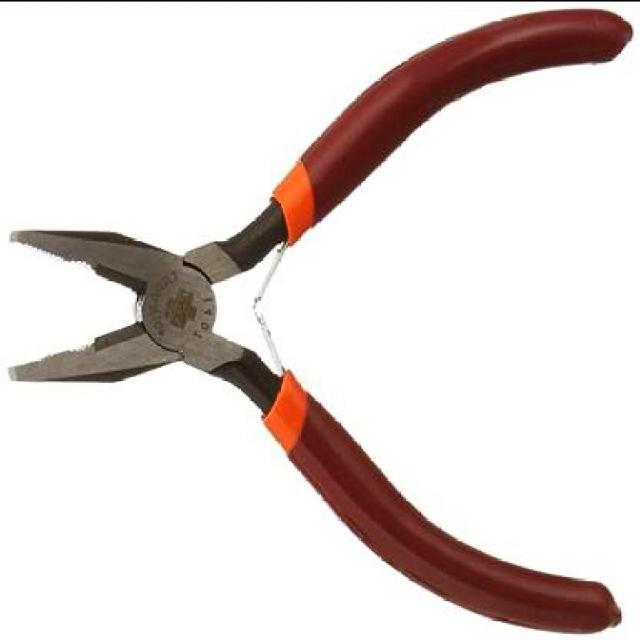pliers: (8, 9, 624, 629)
